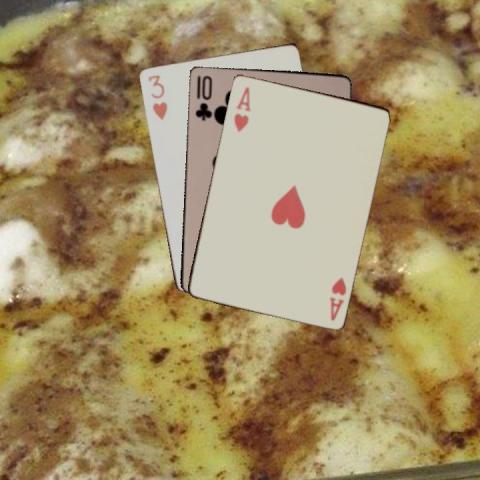10c: (192, 72, 213, 122)
3h: (144, 72, 168, 122)
Ah: (326, 274, 348, 322), (231, 83, 252, 133)
